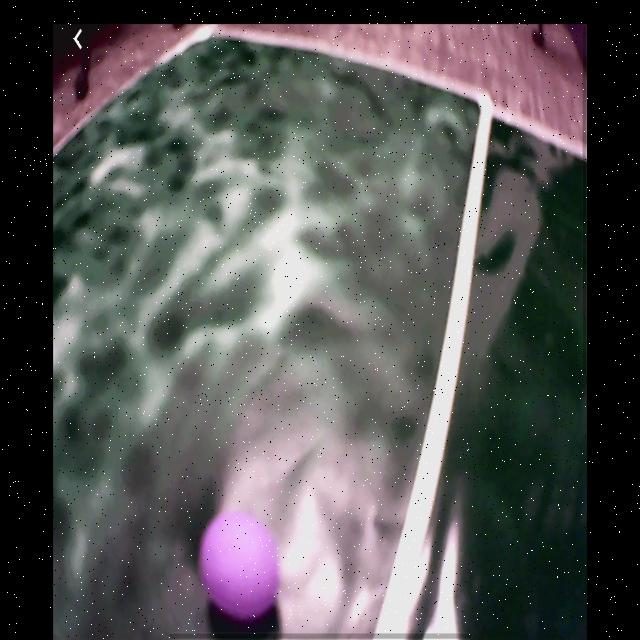ball: (201, 510, 281, 626)
